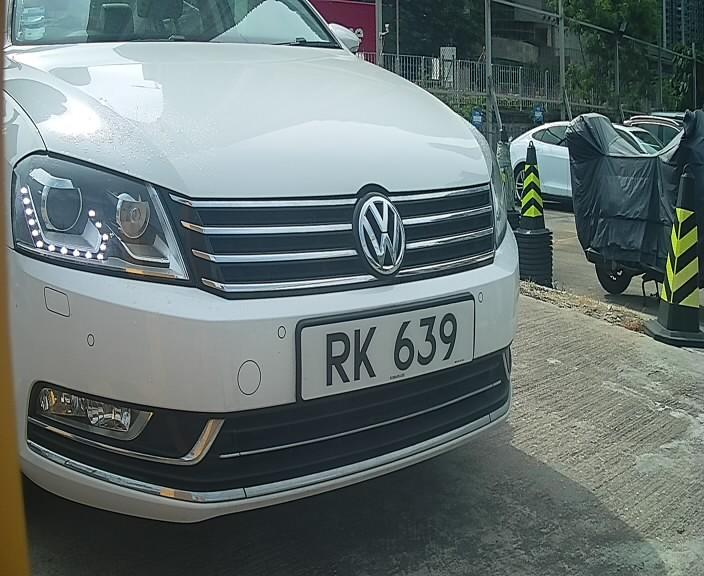License Plate: (277, 294, 475, 402)
